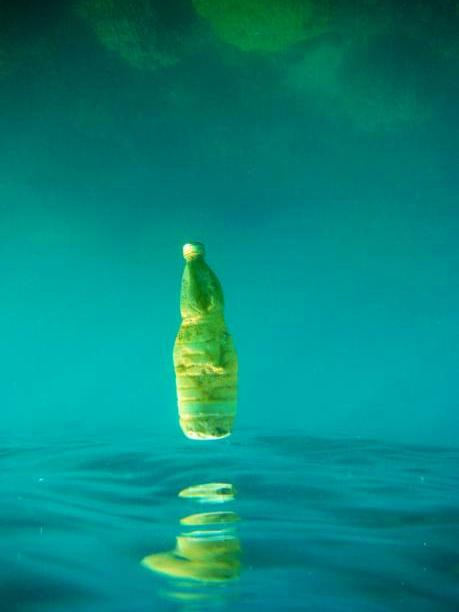Plastic: (162, 235, 240, 454)
